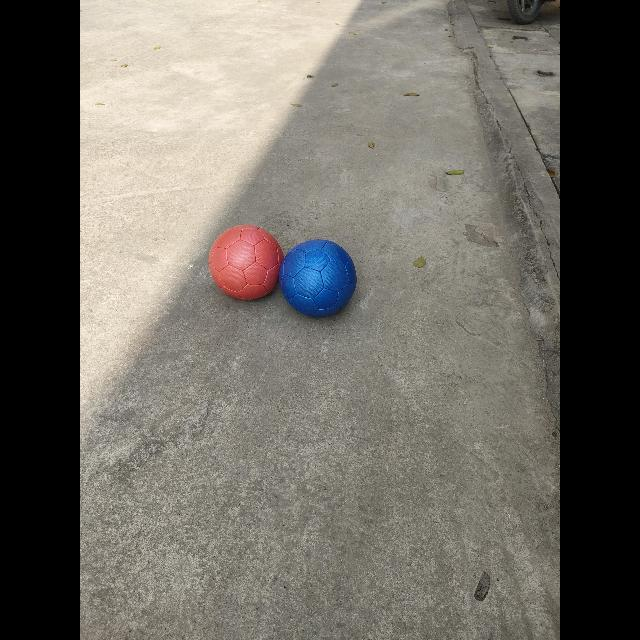B: (279, 240, 358, 321)
R: (208, 225, 284, 304)
